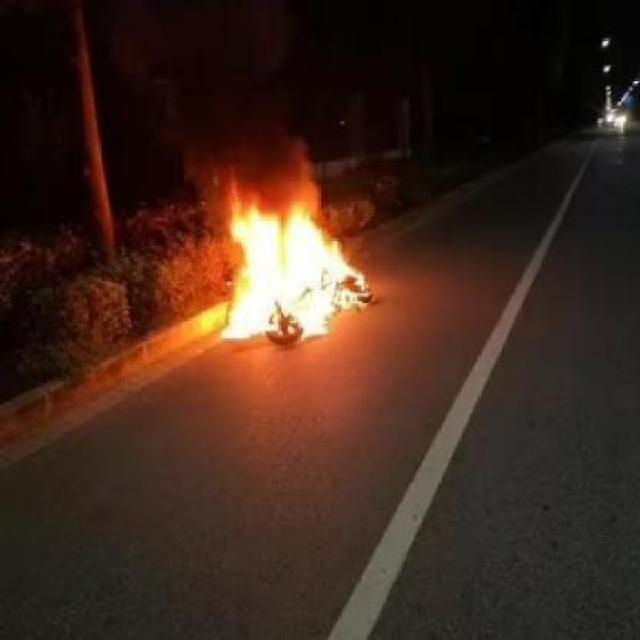Fire: (225, 209, 352, 334)
Smoke: (191, 26, 320, 222)
